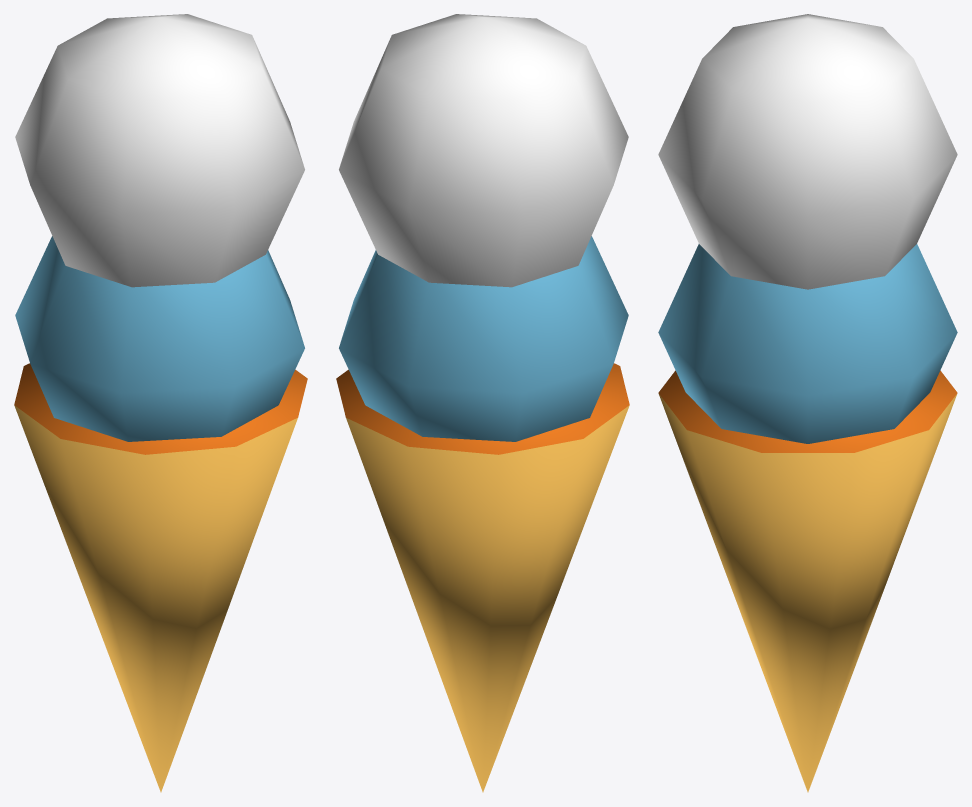
File: Icecream.glb
The picture shows the model from 3 angles, left to right: view 1: azimuth 30°, elevation 25°; view 2: azimuth 150°, elevation 25°; view 3: azimuth 270°, elevation 25°; orthographic projection.
Parts seen in each view (by area): view 1: ice cream; view 2: ice cream; view 3: ice cream.
Boxes of the visible parts, x1,y1,x2,y2 form: ice cream: (14,14,307,792); ice cream: (336,14,629,792); ice cream: (658,14,957,792).
Size of the model in its own units: 3.57 by 10.18 by 3.57.
Materials: 1 (1 with a texture image).
